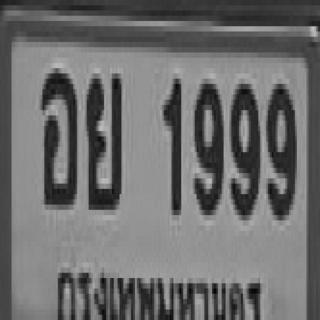A34: (85, 68, 120, 205)
A43: (38, 63, 75, 205)
N01: (162, 74, 179, 210)
N09: (193, 74, 222, 210), (266, 79, 295, 215), (229, 79, 258, 215)
P04: (56, 262, 266, 320)
